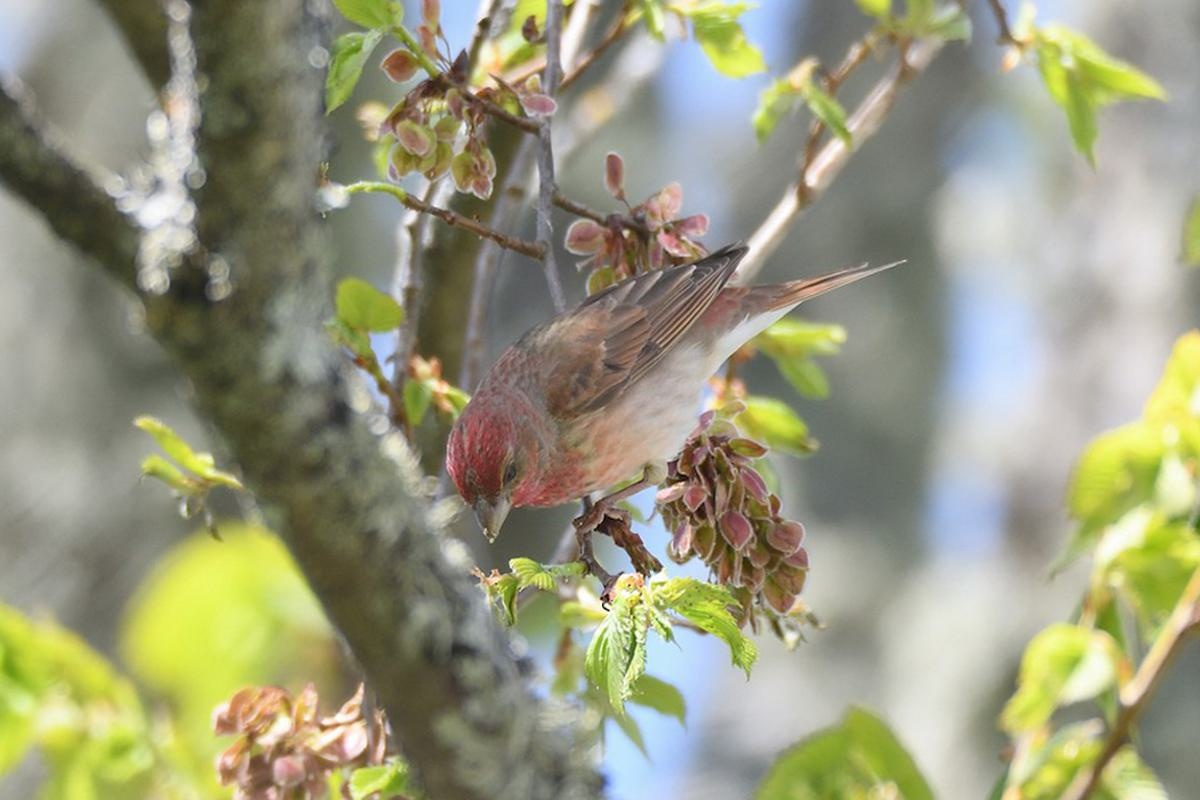rosefinch: (430, 231, 781, 602)
